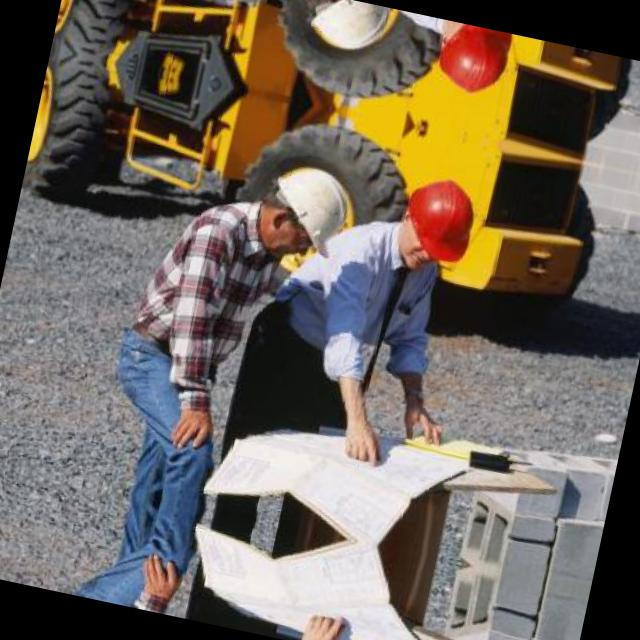helmet: (238, 142, 364, 276), (389, 168, 483, 272), (281, 0, 397, 72), (424, 18, 516, 102)
